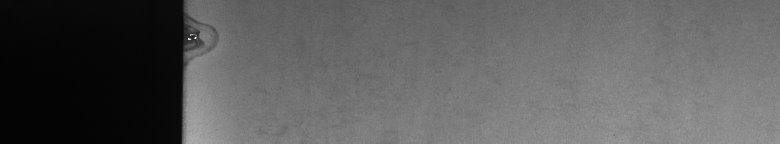hb: (192, 13, 223, 64)
